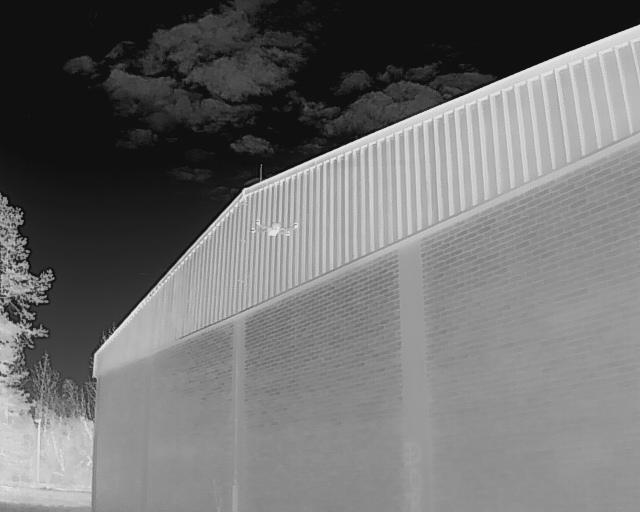drone: (234, 208, 307, 258)
